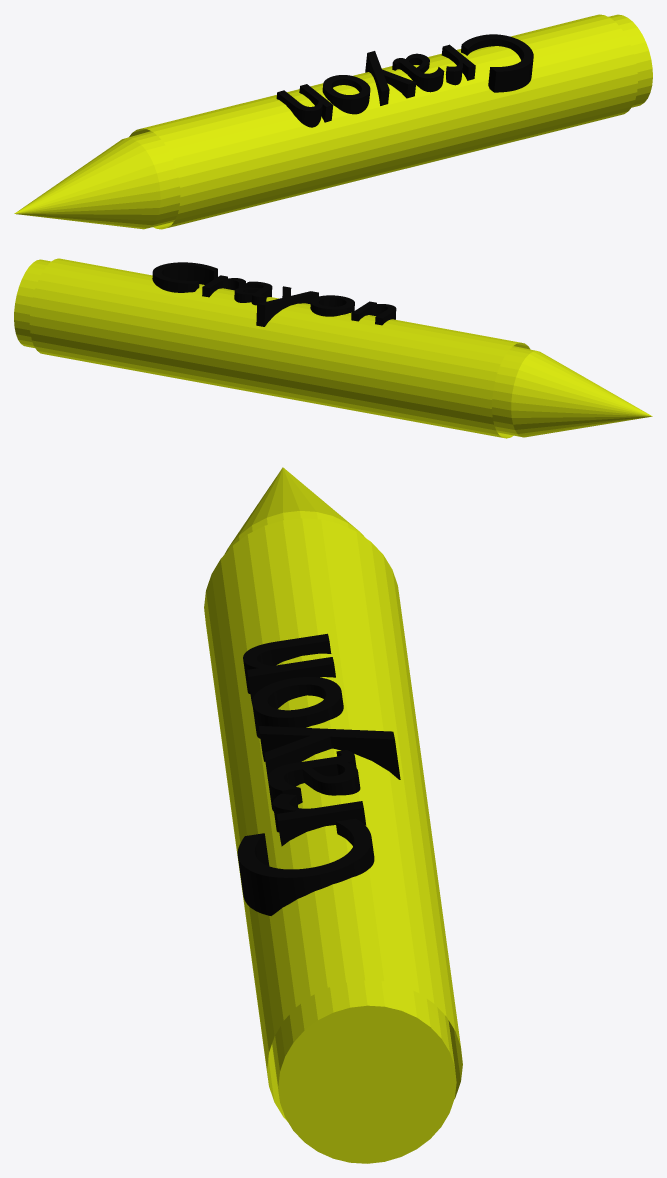
The model's file is Crayon_Yellow.fbx.
The picture shows the model from 3 angles, top to bottom: view 1: azimuth 30°, elevation 25°; view 2: azimuth 150°, elevation 25°; view 3: azimuth 270°, elevation 25°; orthographic projection. The views are drawn at different scales.
Parts seen in each view (by area): view 1: Text.010; view 2: Text.010; view 3: Text.010.
Part boxes in pixels (x1=…): Text.010: x1=14, y1=14, x2=652, y2=229; Text.010: x1=14, y1=258, x2=652, y2=438; Text.010: x1=204, y1=467, x2=462, y2=1163.
Bounding box in the file's own units: 12.28 × 2.03 × 2.29.
